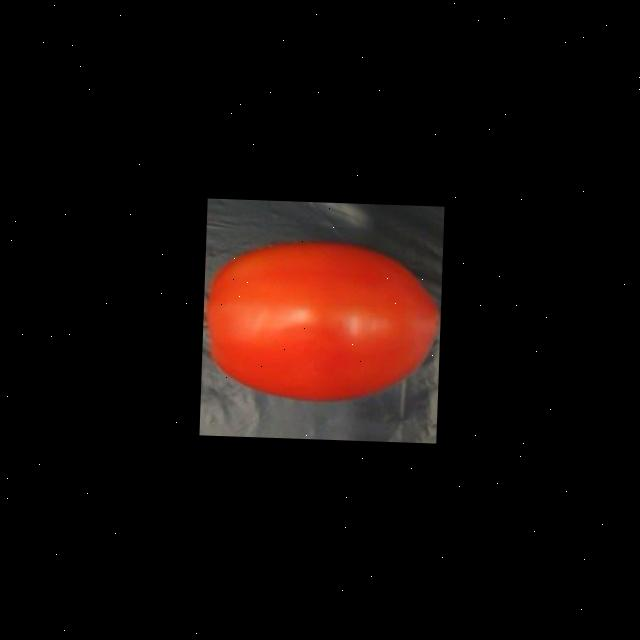tomato: (198, 232, 442, 412)
